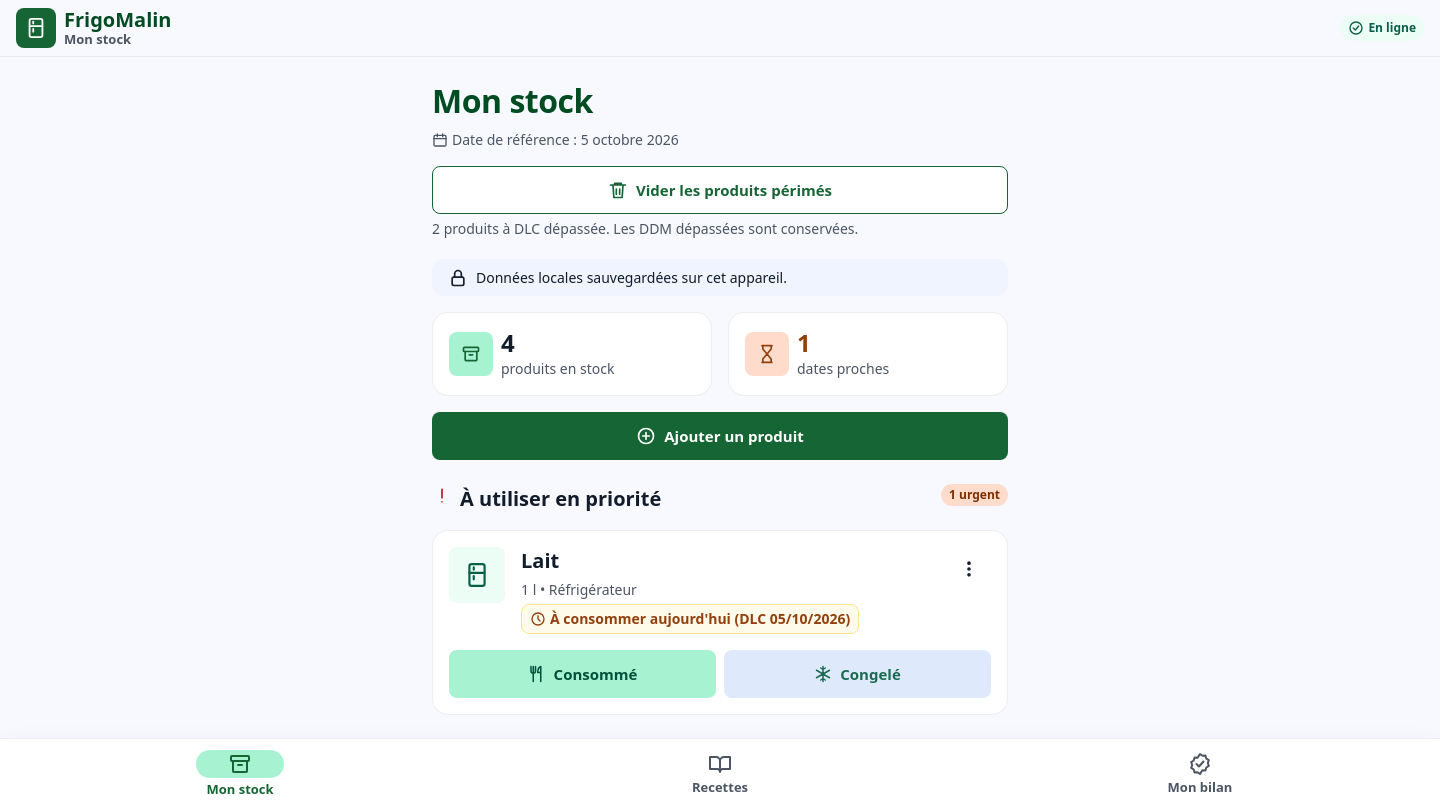
Test case: confirme et persiste le vidage des DLC dépassées sans compter de produits sauvés
Click the button "Vider les produits périmés": (720,190) [432,166,1008,214]
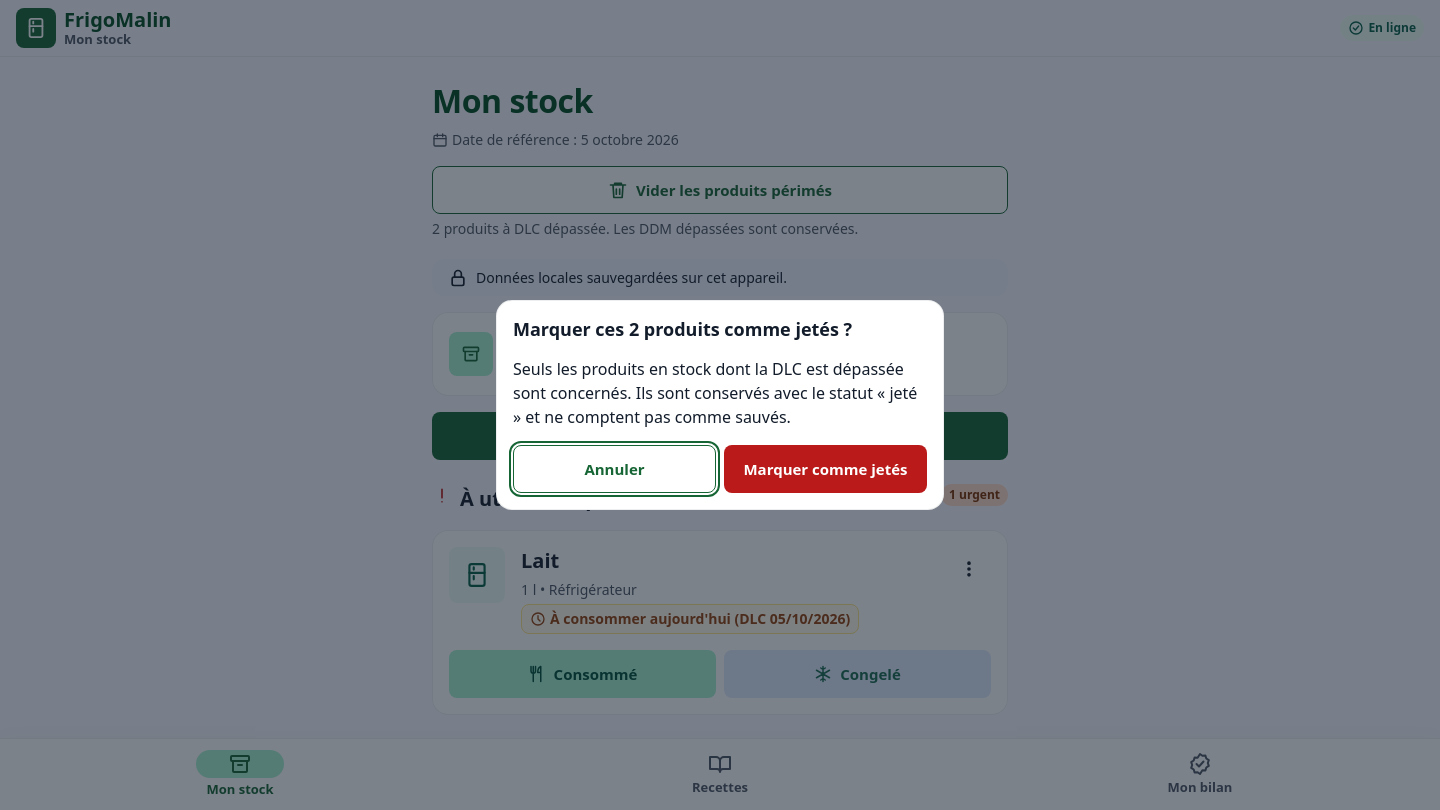
Expected: the heading "Marquer ces 2 produits comme jetés ?" is shown, [513,317,852,341]
Click the button "Marquer comme jetés": (826,469) [724,445,927,493]
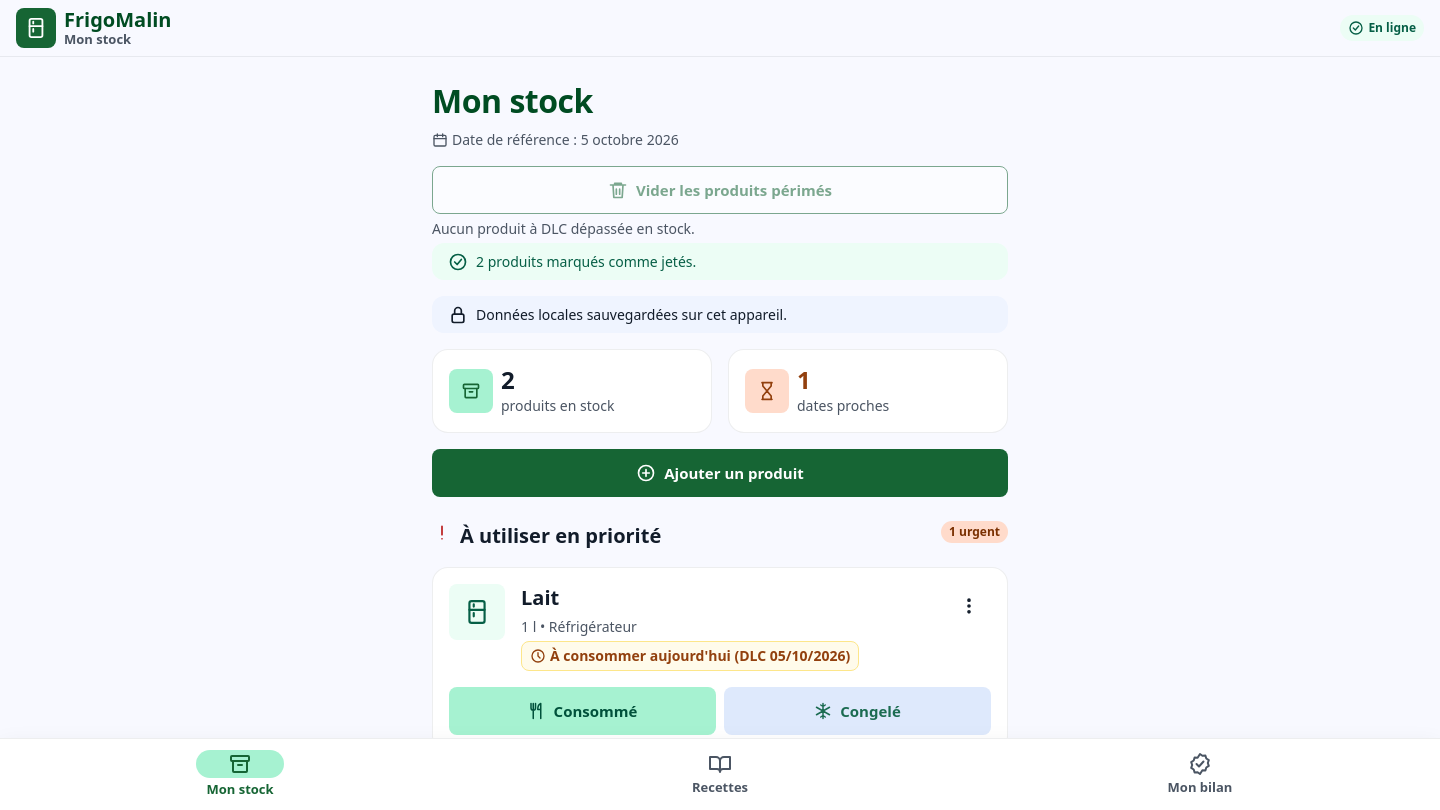
Expected: the text "2 produits marqués comme jetés." is shown, [476,251,696,272]
